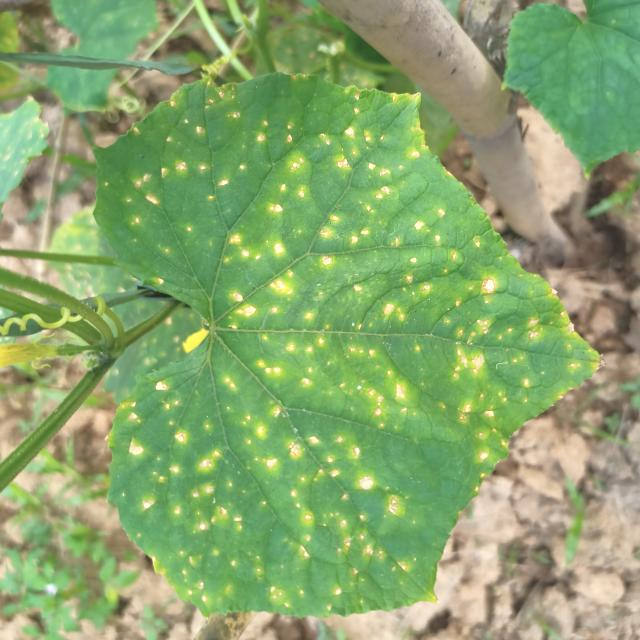disease_cucumber: (113, 84, 554, 604)
